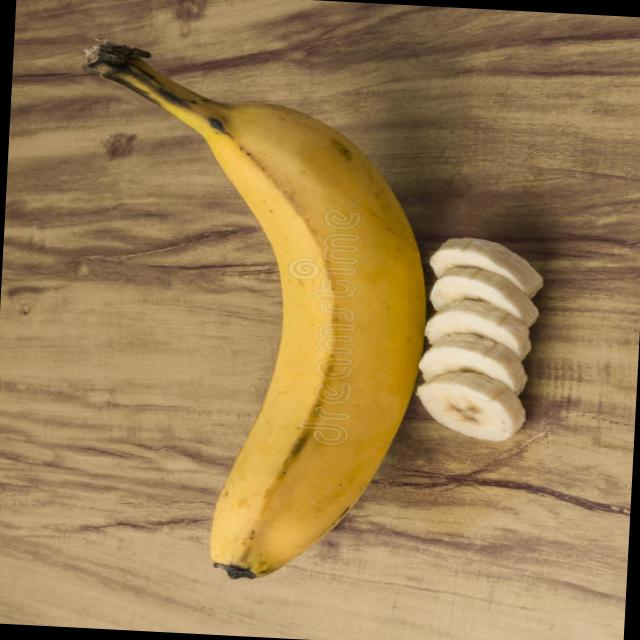Platano: (48, 34, 455, 592)
